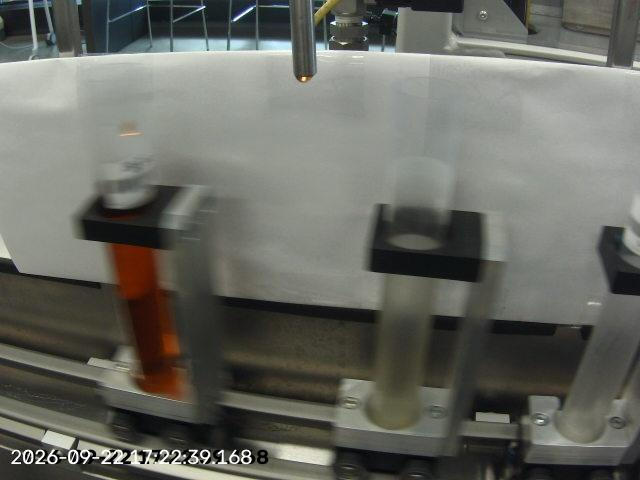vial: (69, 62, 195, 398), (374, 70, 469, 432)
